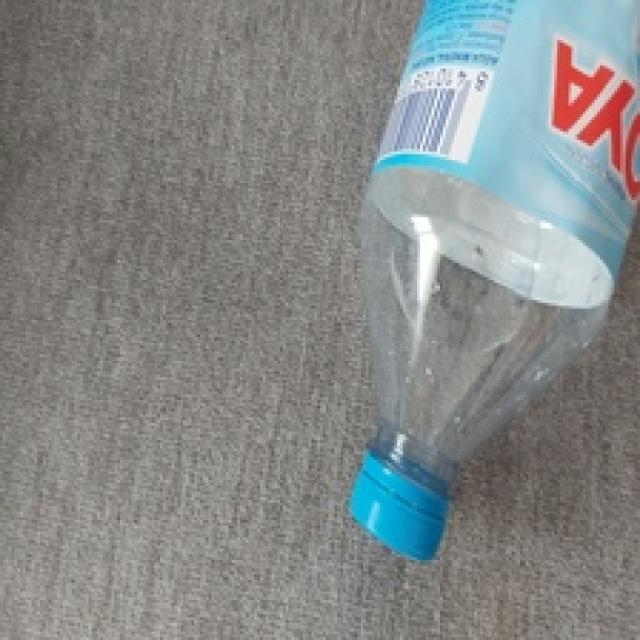bottle: (313, 0, 640, 570)
cap: (336, 453, 462, 565)
label: (354, 0, 640, 323)
